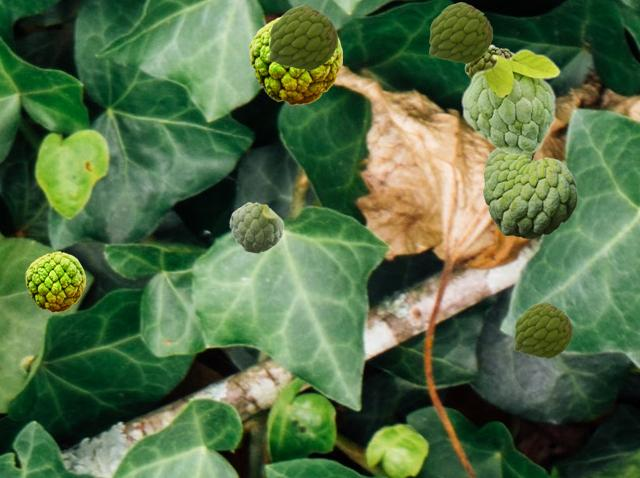atis: (460, 48, 560, 155), (483, 149, 576, 238), (249, 15, 341, 104), (269, 5, 336, 69), (429, 2, 491, 62), (25, 251, 84, 311), (514, 302, 571, 357), (229, 202, 283, 252), (464, 44, 513, 77)
